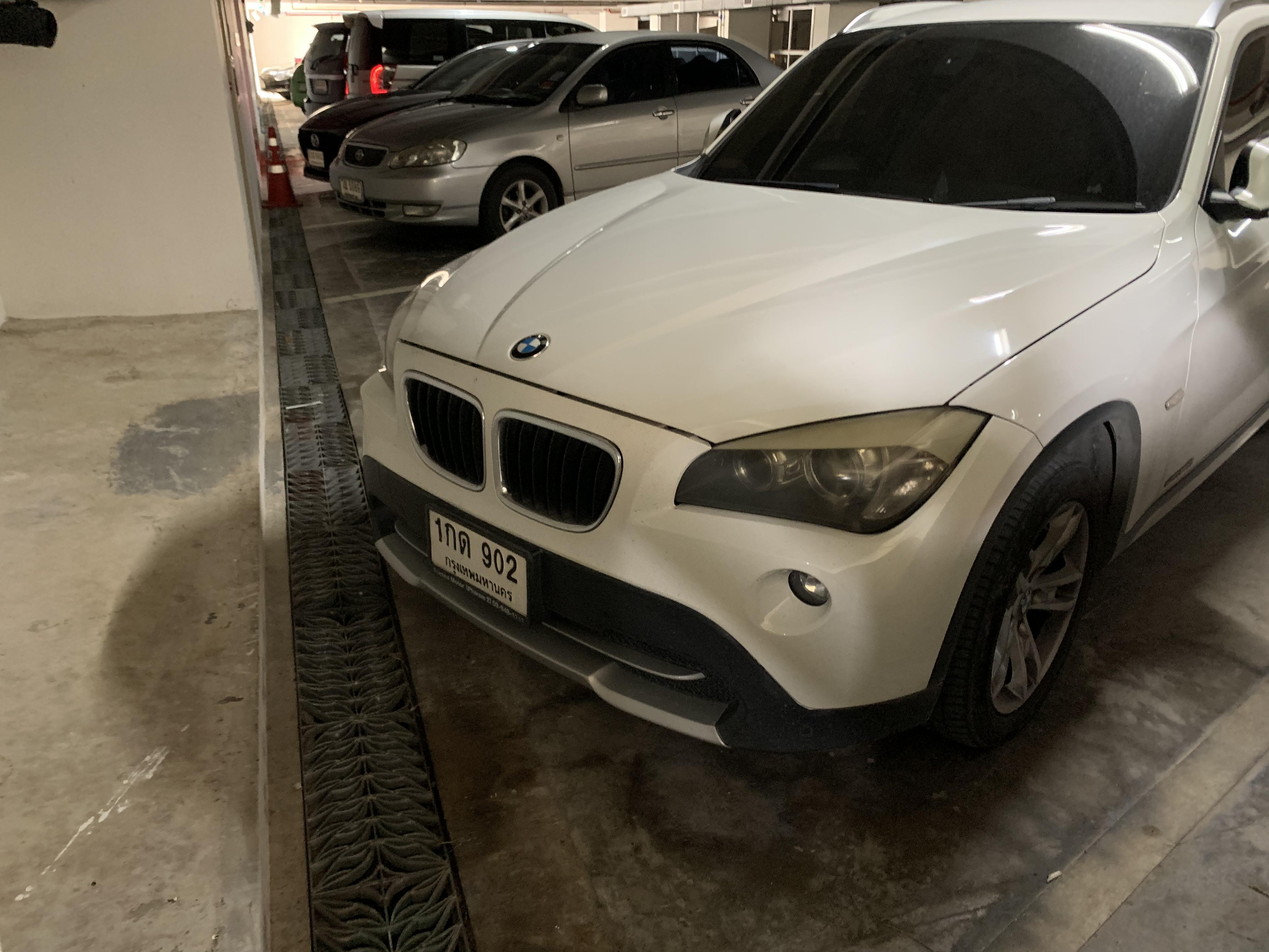license-plate: (422, 504, 534, 629)
